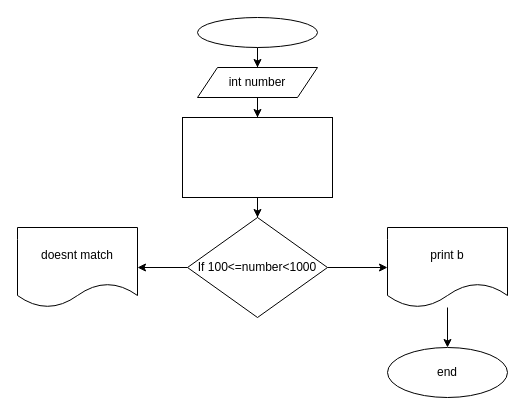
The diagram is 525 pixels wide and 415 high, and some of its shapes have lost their labels. The centre of each missing label's shape, as x and y in pixels:
"a= number div 100 b= (number div 10) mod 10 c= number mod 10" goes at point 257,157.
"start" goes at point 257,32.
